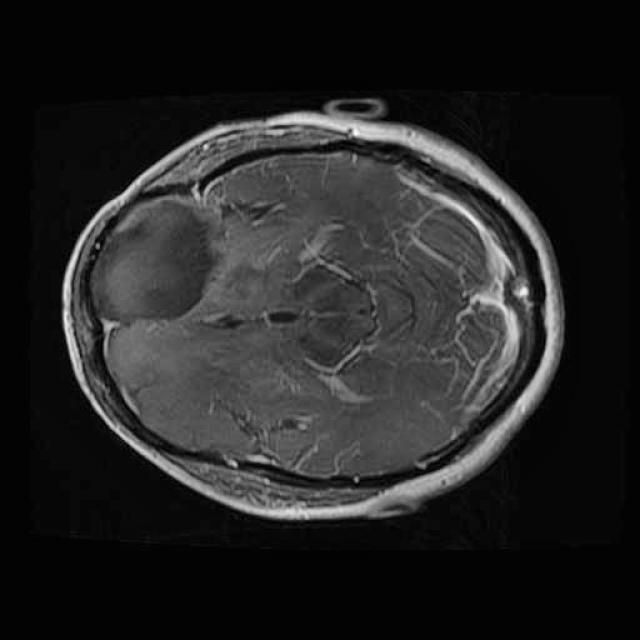Tumor: (81, 188, 219, 333)
